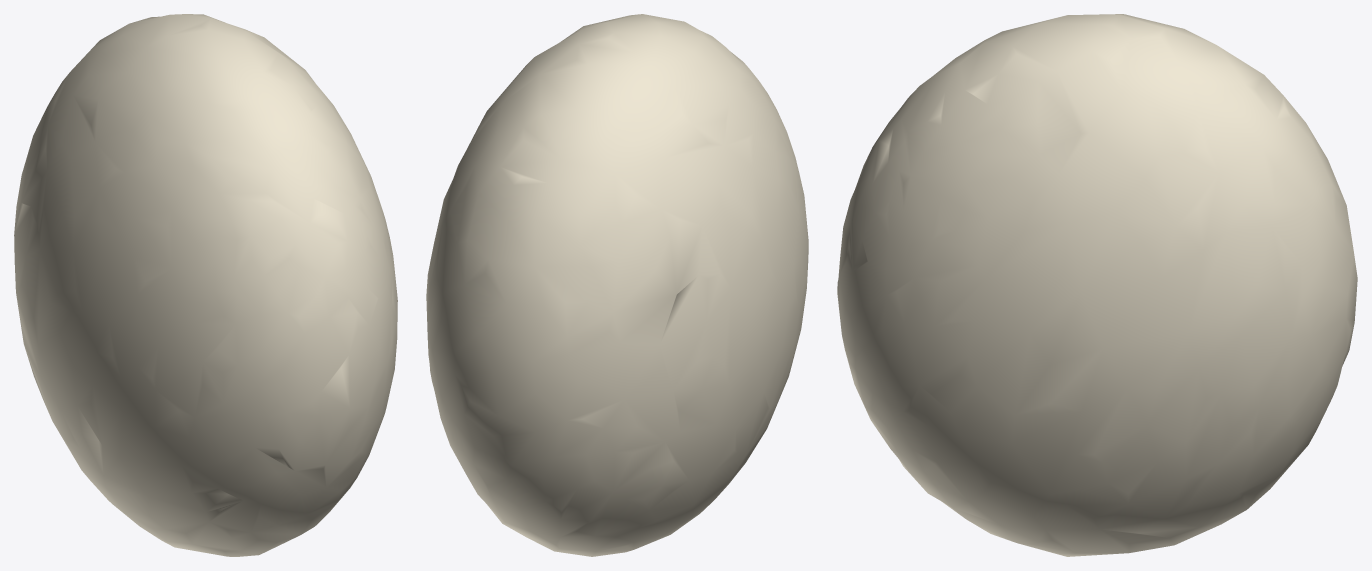
File: patella_l.glb
3 views of the same model, side by side, from view 1: azimuth 30°, elevation 25°; view 2: azimuth 150°, elevation 25°; view 3: azimuth 270°, elevation 25° (orthographic). The views are drawn at different scales.
Visible parts, largest first — view 1: geometry_0; view 2: geometry_0; view 3: geometry_0.
Boxes of the visible parts, bbox=[...] form: geometry_0: bbox=[14, 14, 397, 556]; geometry_0: bbox=[426, 14, 808, 556]; geometry_0: bbox=[837, 14, 1357, 556].
Bounding box in the file's own units: 0.0606 × 0.1004 × 0.0902.
